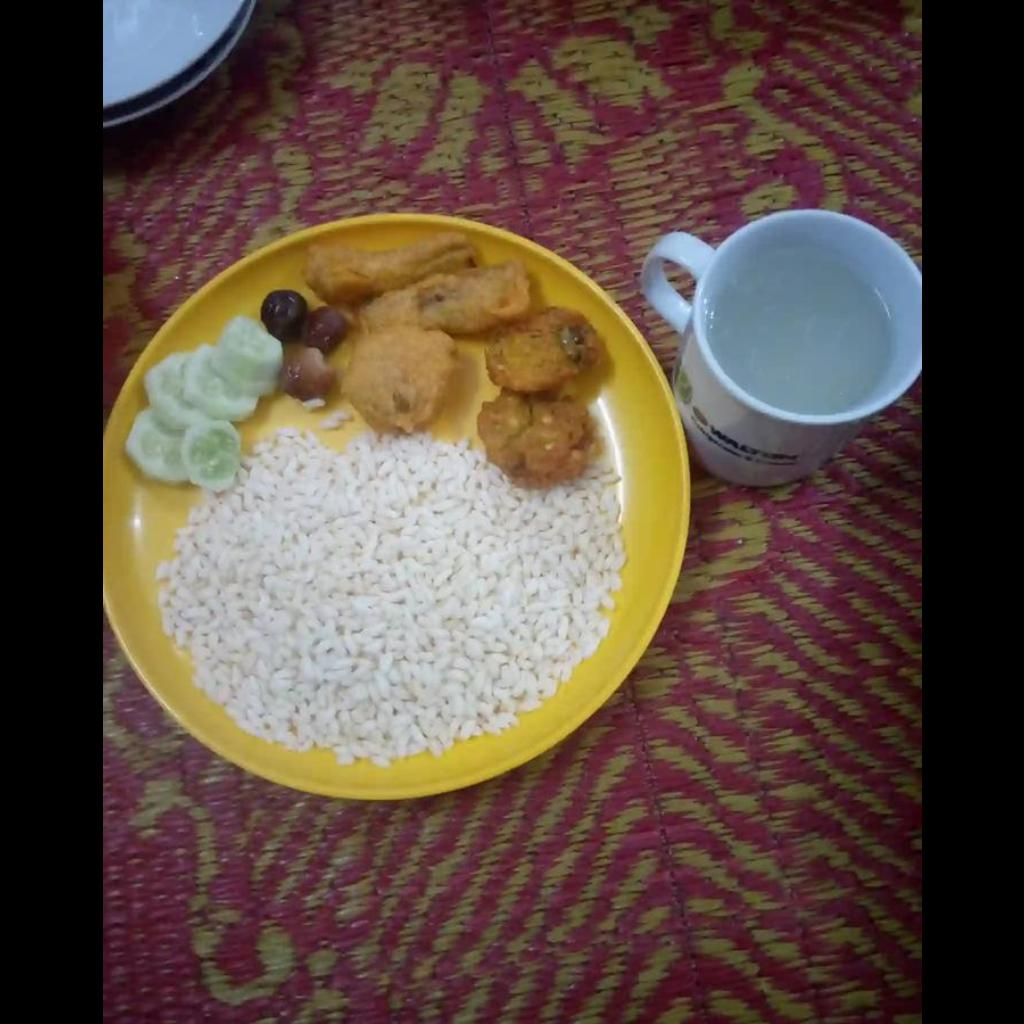beguni: (302, 233, 529, 336)
chop-alu: (340, 327, 455, 431)
cucumber: (126, 316, 281, 489)
grapes: (260, 290, 344, 402)
juice: (716, 249, 889, 412)
peyaju: (480, 310, 603, 483)
puffed-rice: (157, 429, 623, 766)
